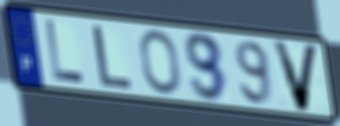9: (182, 31, 231, 105), (233, 39, 275, 106)
L: (92, 23, 136, 91), (43, 18, 87, 86)
O: (137, 28, 184, 98)
V: (269, 38, 322, 114)
